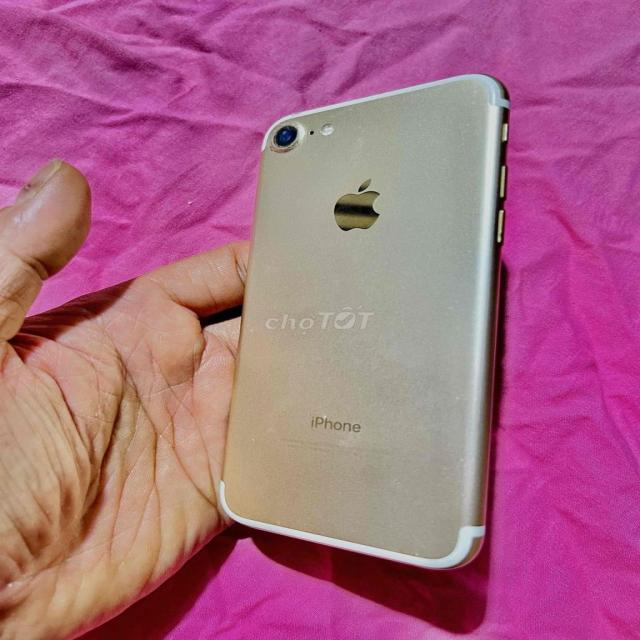gen_7_8: (207, 70, 530, 579)
scratch: (253, 115, 310, 154), (321, 106, 372, 133), (240, 426, 292, 446), (450, 114, 480, 142), (442, 454, 475, 479), (343, 137, 367, 168), (465, 78, 484, 108), (436, 392, 484, 403), (430, 296, 467, 310), (461, 225, 477, 256), (270, 515, 294, 531), (408, 545, 428, 561), (238, 324, 255, 336), (316, 414, 332, 420)
